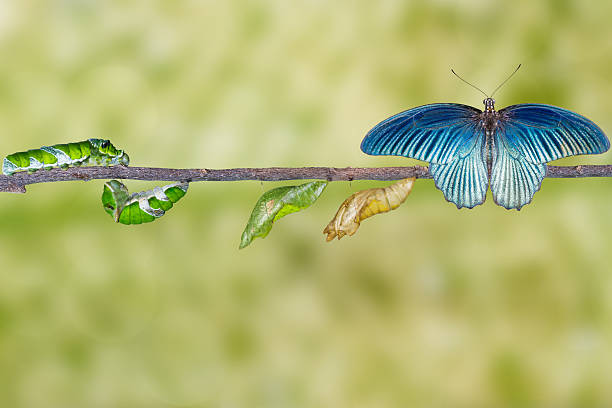Butterfly: (359, 64, 612, 212)
Caterpillar: (3, 136, 135, 178), (101, 176, 194, 227)
